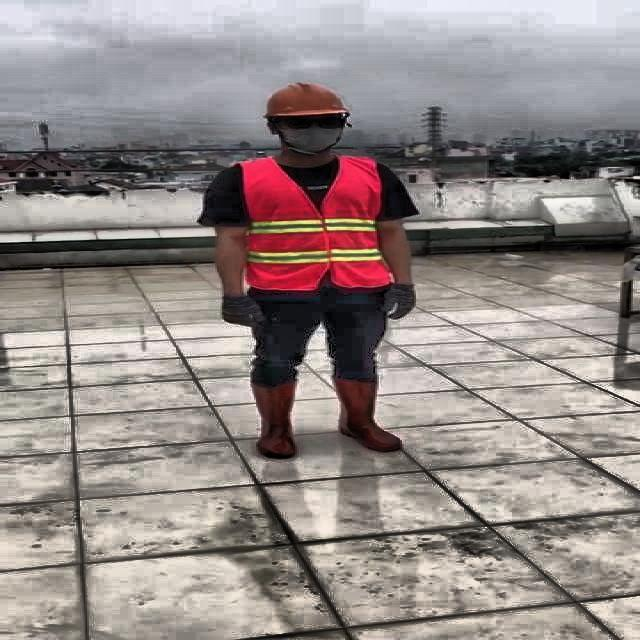safety_helmet: (262, 79, 350, 118)
safety_jacket: (242, 158, 390, 287)
